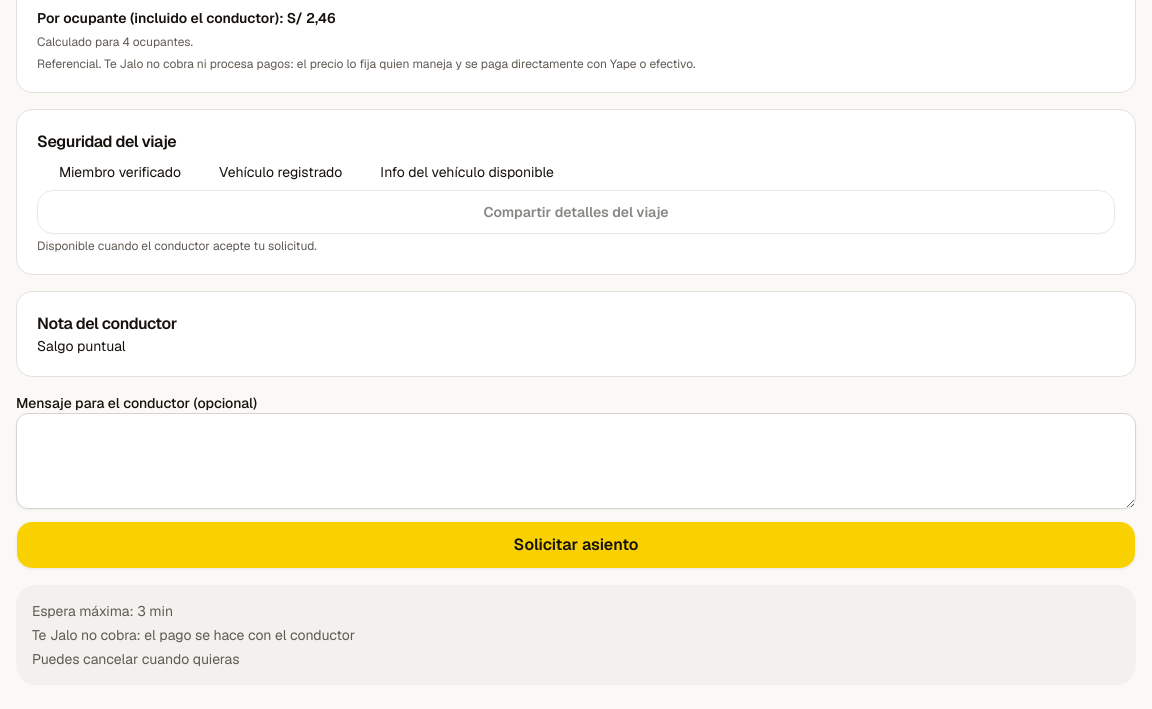
Scenario: trip detail /viajes/{id} (US-014) › sends the request with the optional message and confirms it
(page scrolled)
Type "Voy con una mochila" into the text box labelled "Mensaje para el conductor (opcional)".
click(576, 461); type("Voy con una mochila")  # box [16,413,1136,509]
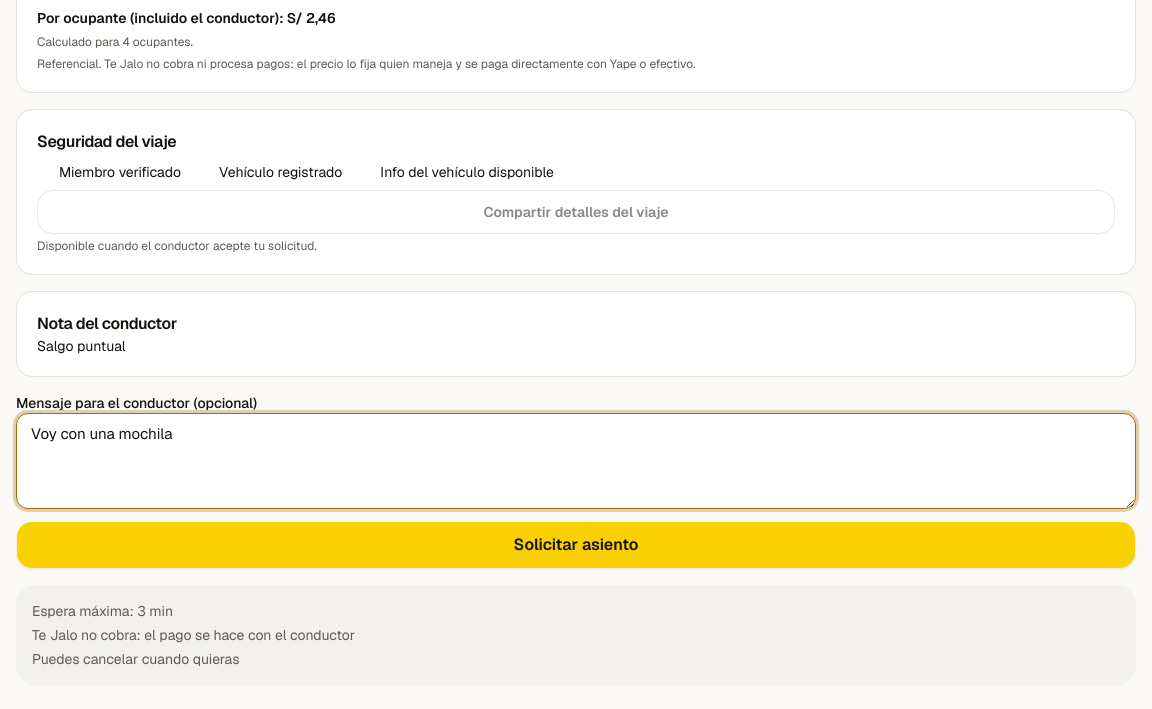
Click the button "Solicitar asiento".
click(576, 545)  # box [16,521,1136,569]
(page scrolled)
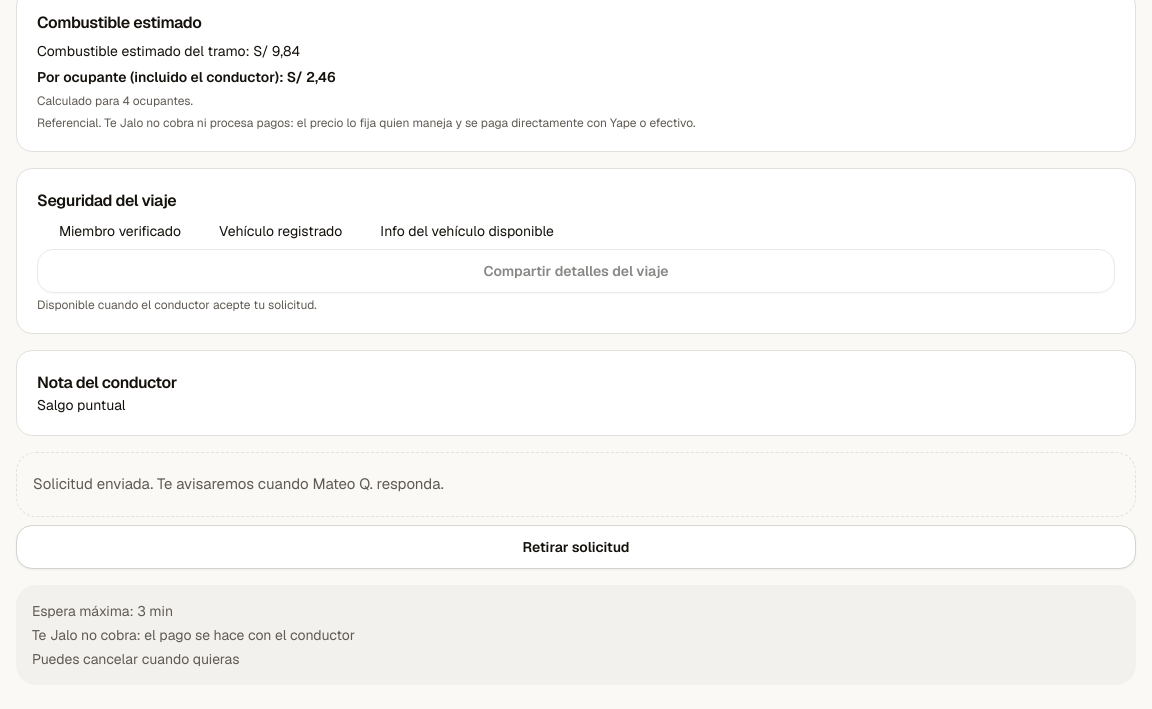
Now the text "Solicitud enviada. Te avisaremos cuando Mateo Q. responda." is shown, box [16,452,1136,516]
Now the button "Solicitar asiento" is gone
